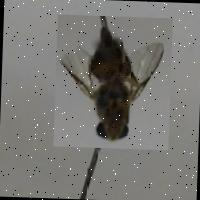Oriental-fruit-fly: (52, 14, 172, 150)
